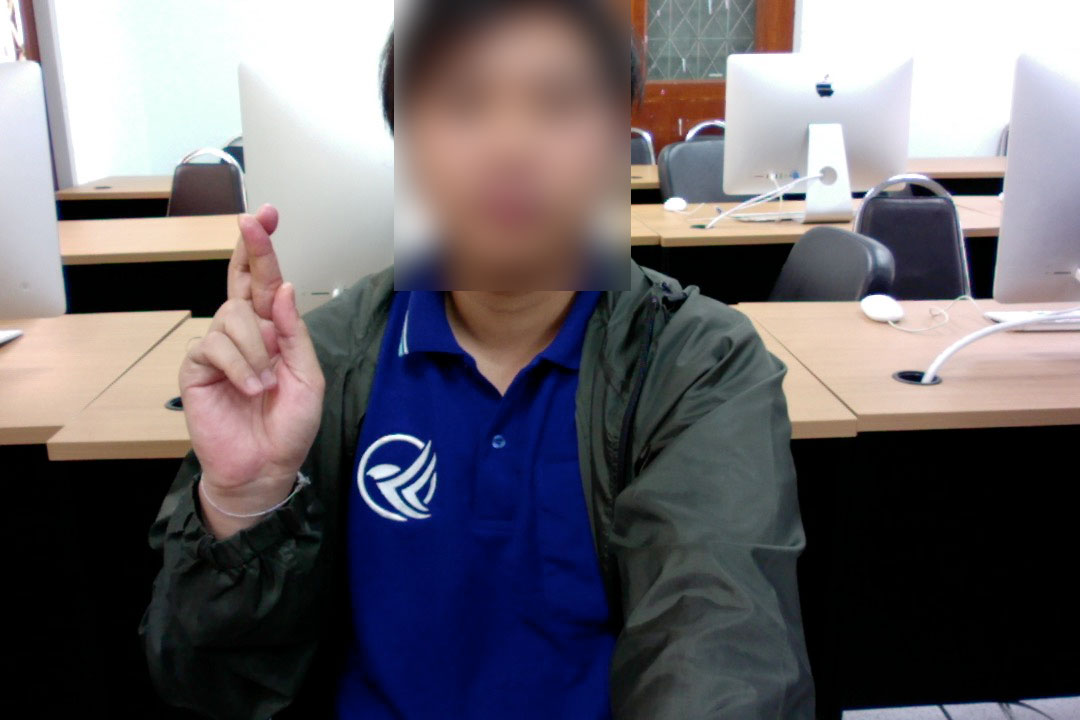rao: (164, 199, 342, 508)
